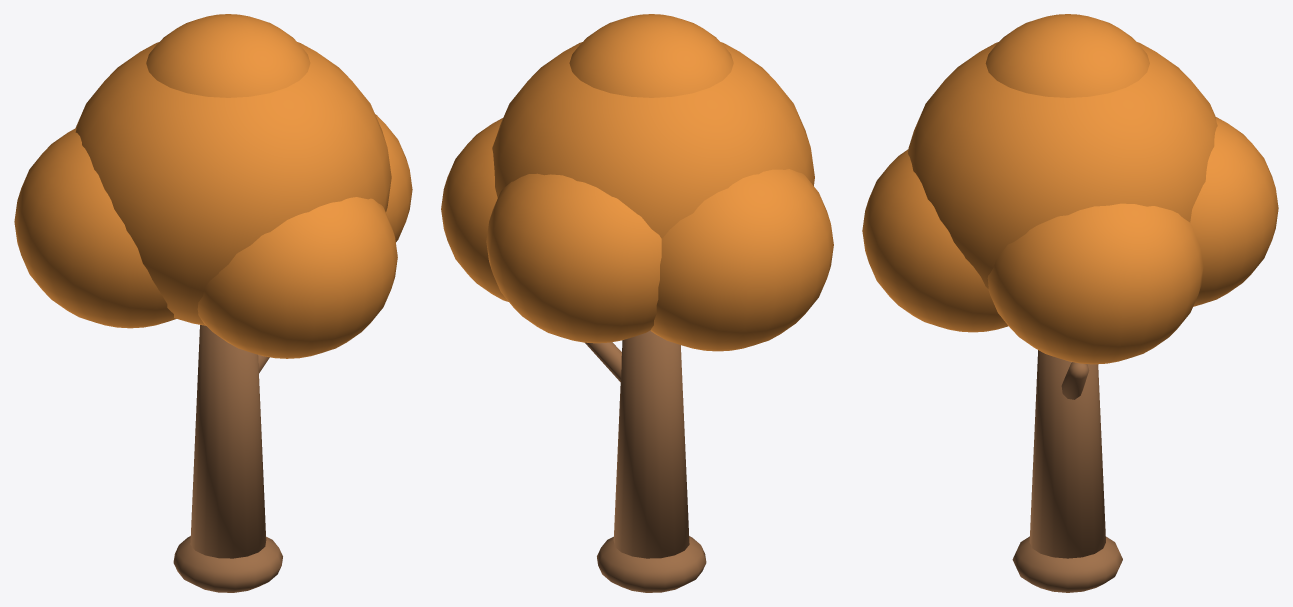
The model's file is tree.glb.
3 renders of one model, left to right at view 1: azimuth 30°, elevation 25°; view 2: azimuth 150°, elevation 25°; view 3: azimuth 270°, elevation 25°, orthographic.
Parts seen in each view (by area): view 1: canopy, trunk; view 2: canopy, trunk; view 3: canopy, trunk.
Boxes of the visible parts, x1,y1,x2,y2 form: canopy: [14, 14, 412, 358]; trunk: [173, 325, 282, 592]; canopy: [441, 14, 833, 351]; trunk: [585, 330, 706, 592]; canopy: [862, 14, 1278, 364]; trunk: [1012, 350, 1122, 592].
Bounding box in the file's own units: 1.6 × 2.34 × 1.58.
